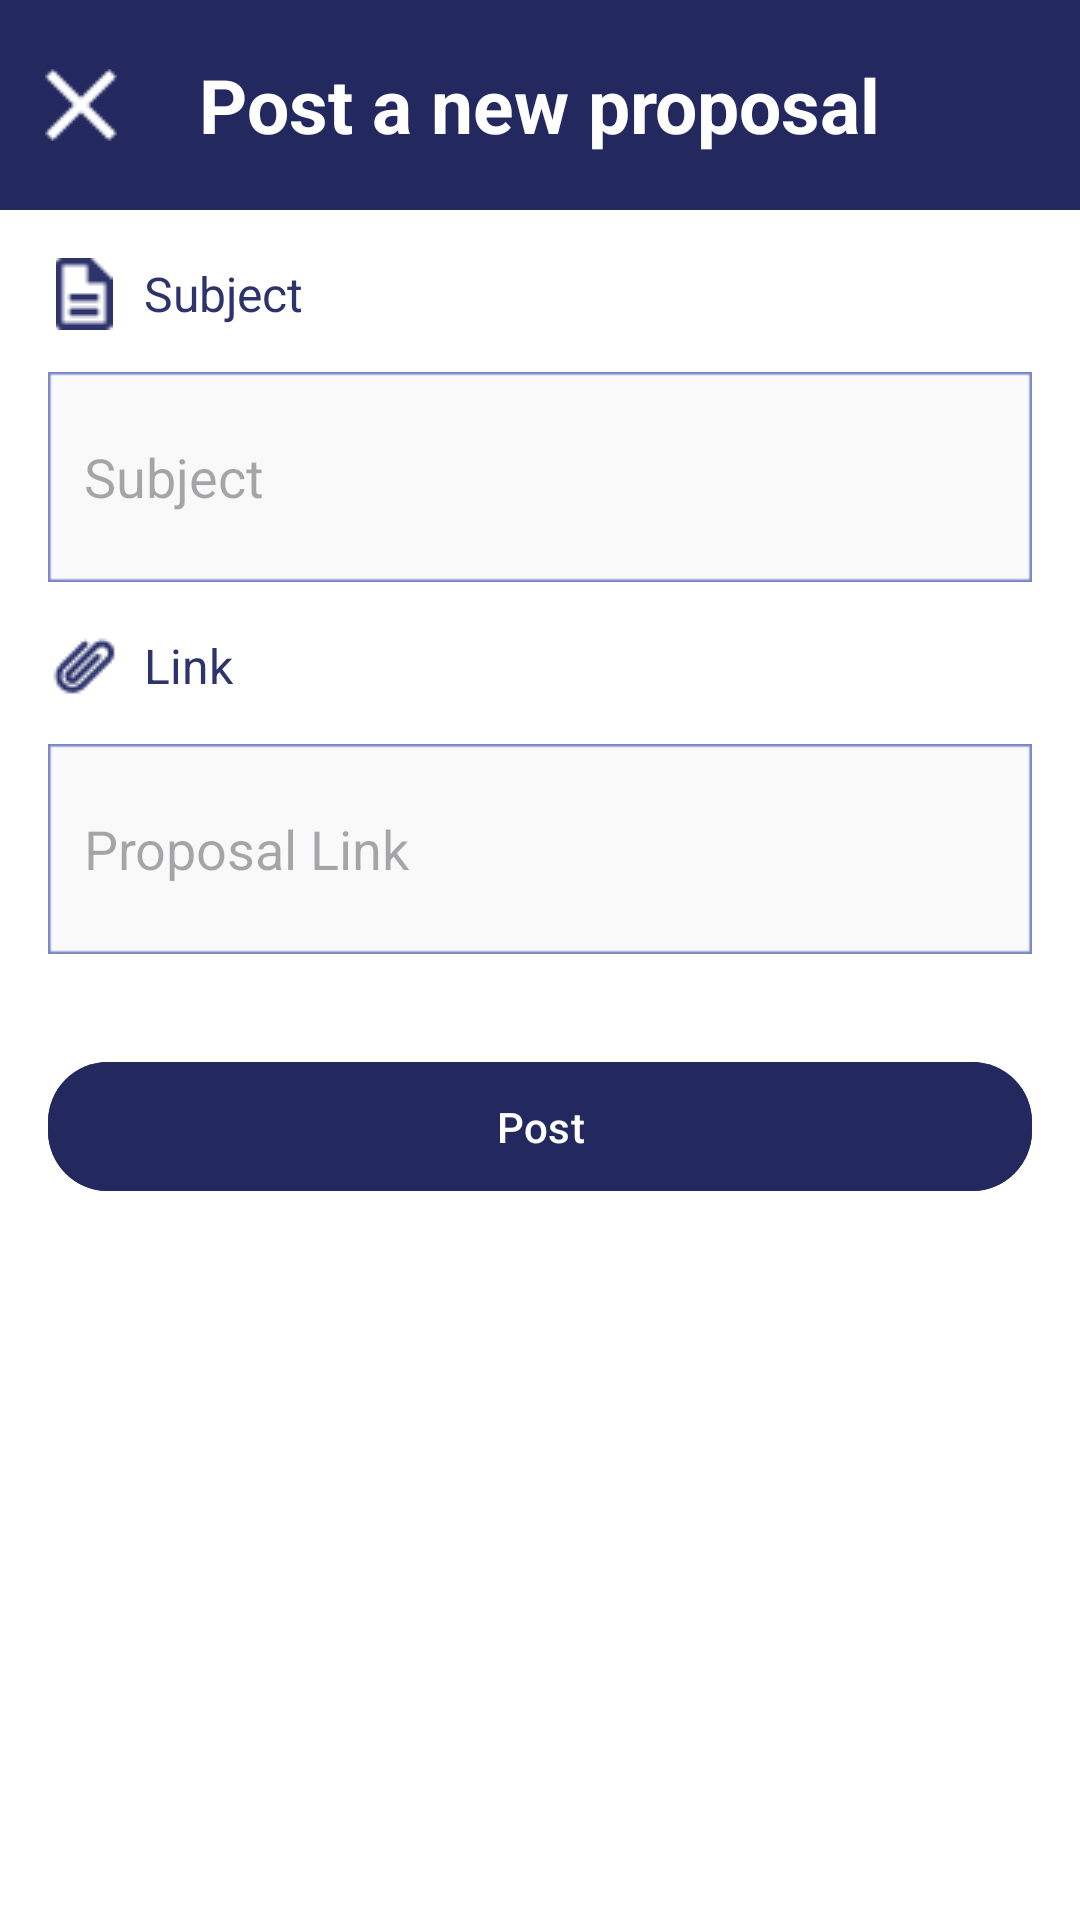

Icons on this 1080*1920 Android screen, each with the point to tap as (x=x, y=y):
cancel: (x=81, y=105)
description: (x=84, y=294)
